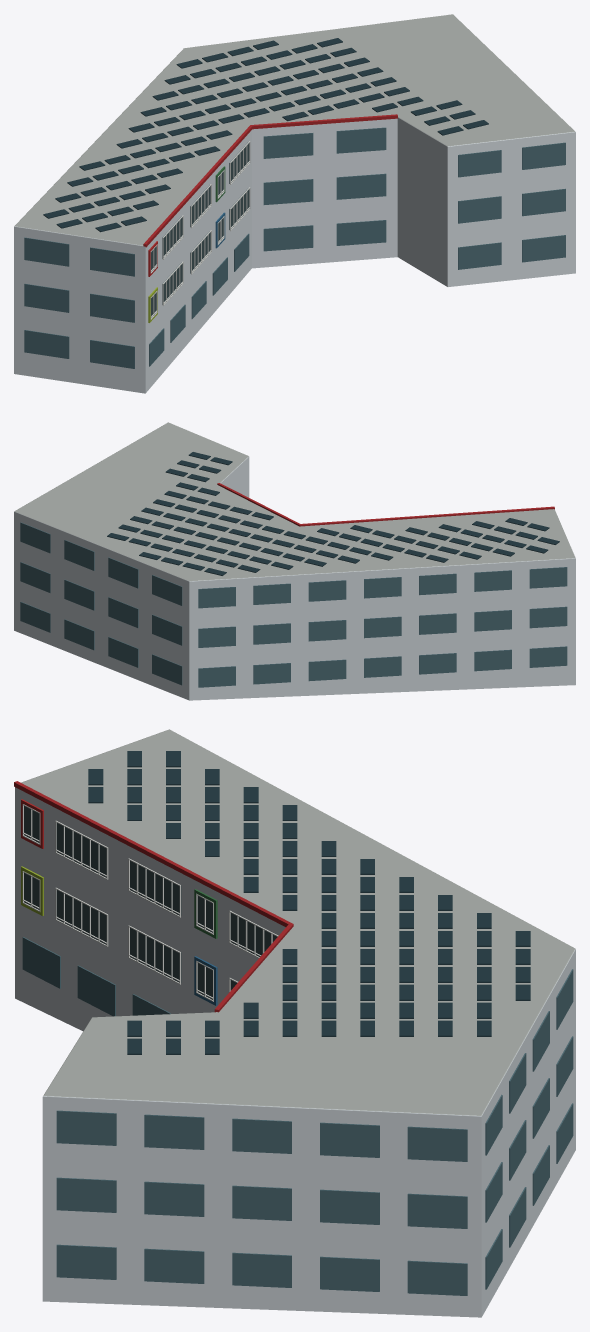
Rendered from intact.glb.
3 renders of one model, top to bottom at view 1: azimuth 30°, elevation 25°; view 2: azimuth 150°, elevation 25°; view 3: azimuth 270°, elevation 25°, orthographic. The views are drawn at different scales.
Visible parts, largest first — view 1: SM_473684409_Intact_00, SM_473684409_Intact_01, SM_473684409_Intact_02, SM_473684409_Intact_03; view 2: SM_473684409_Intact_00, SM_473684409_Intact_01, SM_473684409_Intact_02, SM_473684409_Intact_03; view 3: SM_473684409_Intact_00, SM_473684409_Intact_01, SM_473684409_Intact_02, SM_473684409_Intact_03, SM_473684409_Intact_19, SM_473684409_Intact_21, SM_473684409_Intact_07, SM_473684409_Intact_09, SM_473684409_Intact_26, SM_473684409_Intact_20, SM_473684409_Intact_08, SM_473684409_Intact_10 (+1 smaller).
Part boxes in pixels (left/top/right/bottom): SM_473684409_Intact_00: left=14, top=14, right=575, bottom=393; SM_473684409_Intact_01: left=24, top=127, right=565, bottom=368; SM_473684409_Intact_02: left=43, top=38, right=488, bottom=232; SM_473684409_Intact_03: left=143, top=114, right=397, bottom=247; SM_473684409_Intact_00: left=14, top=422, right=575, bottom=700; SM_473684409_Intact_01: left=20, top=522, right=567, bottom=687; SM_473684409_Intact_02: left=107, top=452, right=559, bottom=575; SM_473684409_Intact_03: left=217, top=483, right=554, bottom=526; SM_473684409_Intact_00: left=15, top=729, right=575, bottom=1317; SM_473684409_Intact_01: left=22, top=937, right=573, bottom=1295; SM_473684409_Intact_02: left=88, top=751, right=530, bottom=1054; SM_473684409_Intact_03: left=14, top=781, right=293, bottom=1012; SM_473684409_Intact_19: left=56, top=823, right=106, bottom=877; SM_473684409_Intact_21: left=130, top=860, right=181, bottom=915; SM_473684409_Intact_07: left=56, top=890, right=106, bottom=944; SM_473684409_Intact_09: left=130, top=928, right=181, bottom=982; SM_473684409_Intact_26: left=230, top=913, right=277, bottom=956; SM_473684409_Intact_20: left=55, top=820, right=108, bottom=879; SM_473684409_Intact_08: left=55, top=887, right=108, bottom=946; SM_473684409_Intact_10: left=128, top=925, right=180, bottom=984.
Size of the model in its own units: 2.2 by 0.5748 by 1.35.
